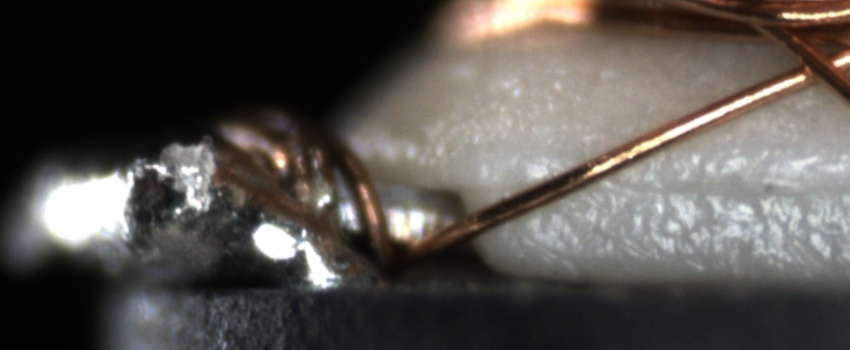CL: (776, 37, 847, 91)
DL: (596, 157, 850, 213)
TE: (240, 112, 403, 253)
